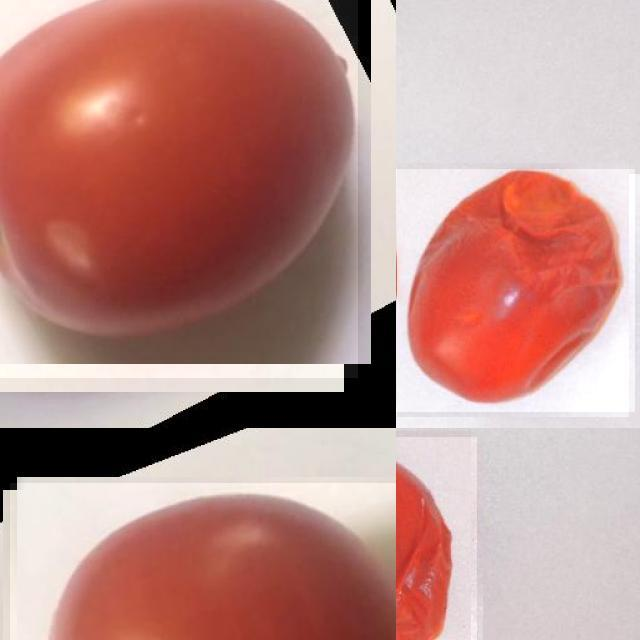Fresh Tomato: (0, 0, 357, 378), (10, 483, 396, 640)
Rotten Tomato: (396, 168, 634, 412), (396, 436, 476, 640)
